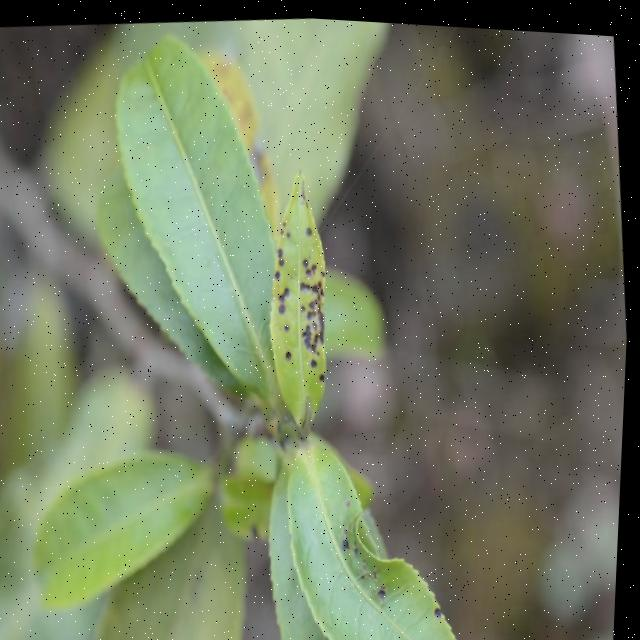Tea red scab: (288, 162, 354, 387), (263, 204, 308, 360)
